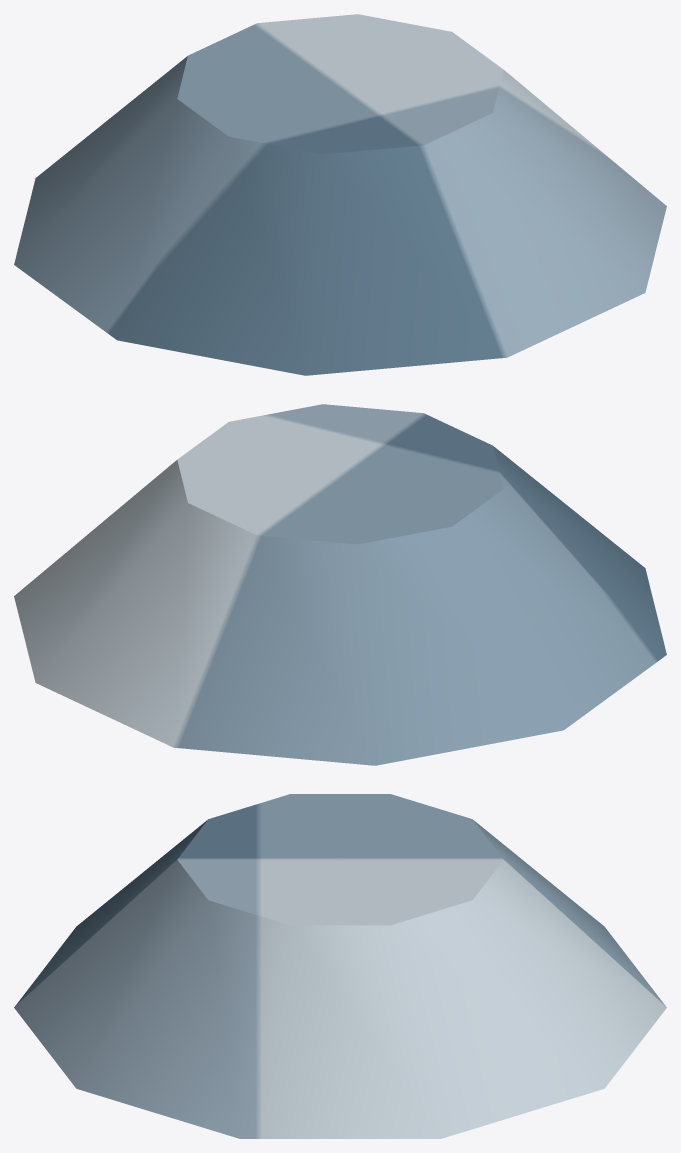
Rendered from point.fbx.
The picture shows the model from 3 angles, top to bottom: view 1: azimuth 30°, elevation 25°; view 2: azimuth 150°, elevation 25°; view 3: azimuth 270°, elevation 25°; orthographic projection. The views are drawn at different scales.
Visible parts, largest first — view 1: Cylinder; view 2: Cylinder; view 3: Cylinder.
Part boxes in pixels (x1,y1,x2,y2): Cylinder: [14, 14, 666, 375]; Cylinder: [14, 404, 666, 765]; Cylinder: [14, 794, 666, 1138].
Bounding box in the file's own units: 3.8 × 1 × 4.
Materials: 1 (1 with a texture image).
